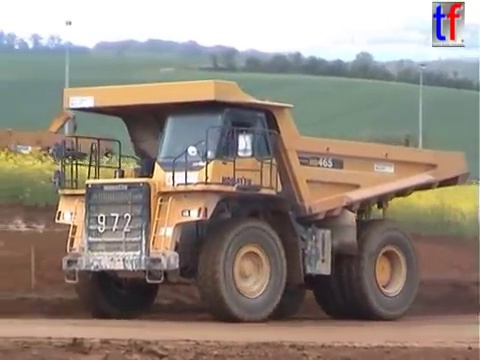excavator: (1, 109, 117, 168)
truck: (49, 76, 471, 325)
